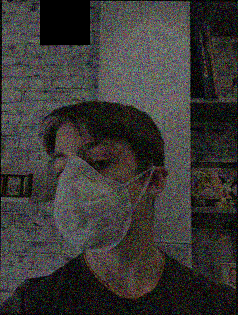with_mask: (51, 136, 142, 254)
